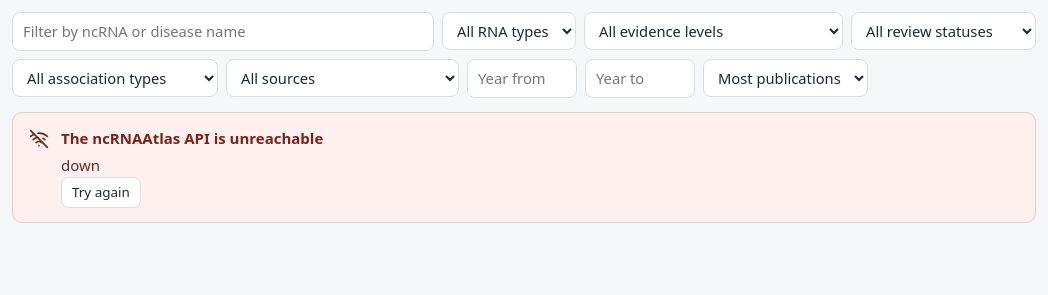
it: AssociationTable › shows a retryable error state on failure
Click the button "Try again" at coordinates (101, 192), box [61,177,141,208]
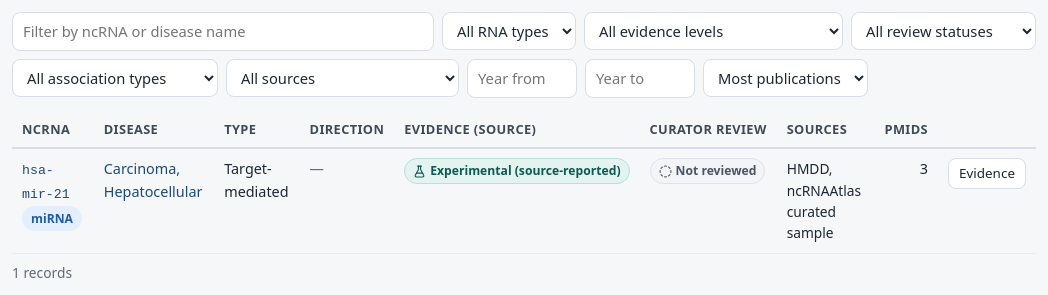
Now the link "hsa-mir-21" is shown, box [22,164,70,202]
